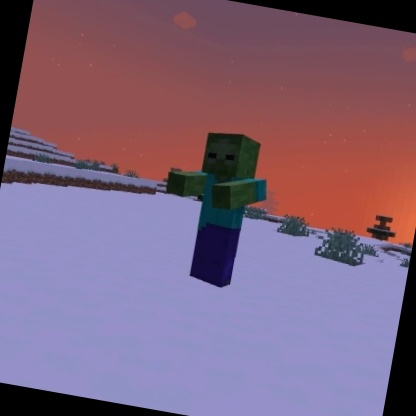zombie: (146, 119, 282, 299)
